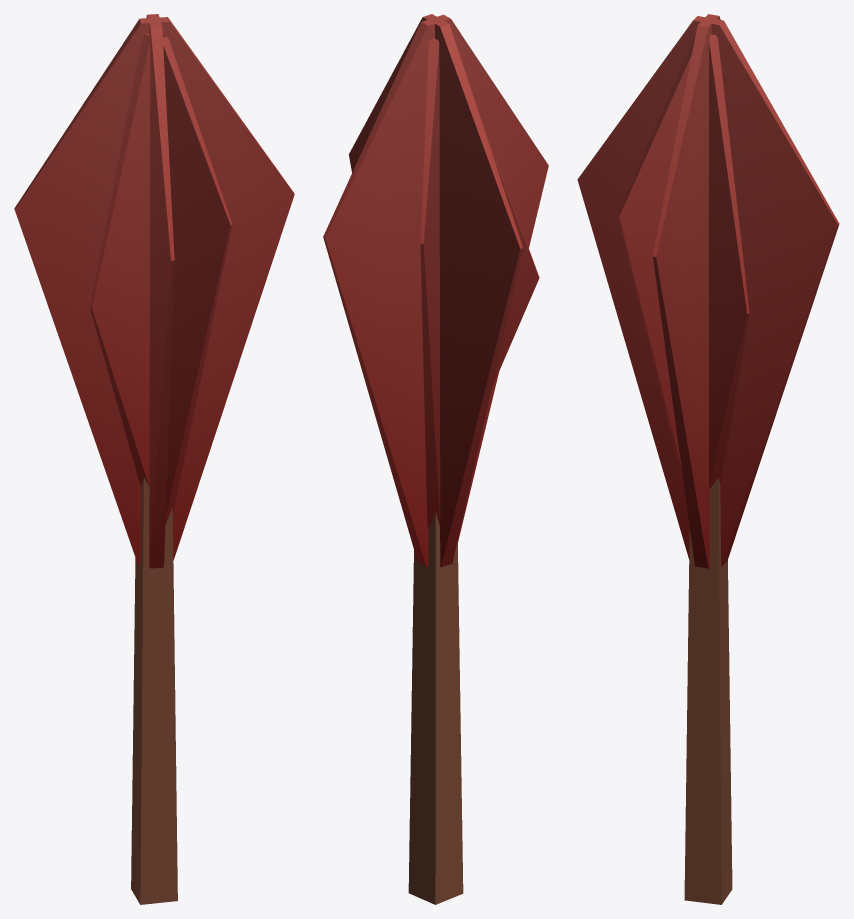
Rendered from Tree_33_gradient_red_vc.fbx.
The picture shows the model from 3 angles, left to right: view 1: azimuth 30°, elevation 25°; view 2: azimuth 150°, elevation 25°; view 3: azimuth 270°, elevation 25°; orthographic projection.
Visible parts, largest first — view 1: Tree_33_gradient_red_vc; view 2: Tree_33_gradient_red_vc; view 3: Tree_33_gradient_red_vc.
Boxes of the visible parts, x1,y1,x2,y2 form: Tree_33_gradient_red_vc: (14,14,294,904); Tree_33_gradient_red_vc: (323,14,548,904); Tree_33_gradient_red_vc: (577,14,839,904).
Bounding box in the file's own units: 84.61 × 311 × 84.61.
